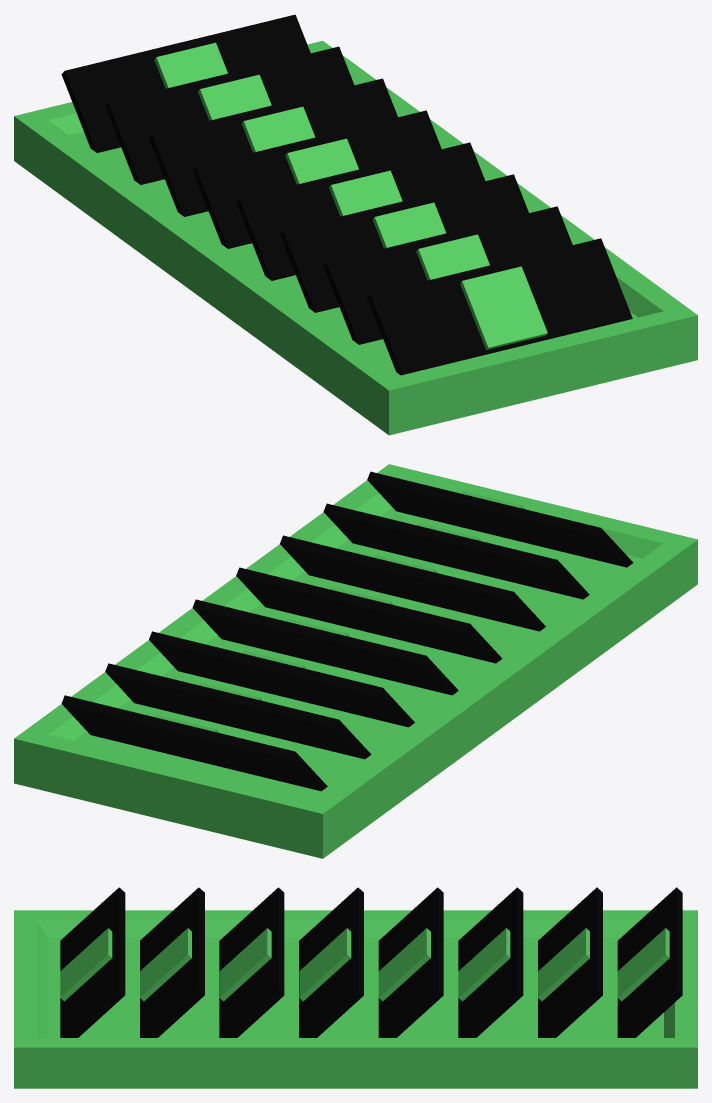
Rendered from Ph_micropreparations.fbx.
3 renders of one model, top to bottom at view 1: azimuth 30°, elevation 25°; view 2: azimuth 150°, elevation 25°; view 3: azimuth 270°, elevation 25°, orthographic. The views are drawn at different scales.
Parts seen in each view (by area): view 1: Cube_89; view 2: Cube_89; view 3: Cube_89.
Part boxes in pixels (x1,y1,x2,y2): Cube_89: (14,14,697,435); Cube_89: (14,464,697,858); Cube_89: (14,887,697,1088).
Size of the model in its own units: 11.66 by 3.22 by 24.51.
